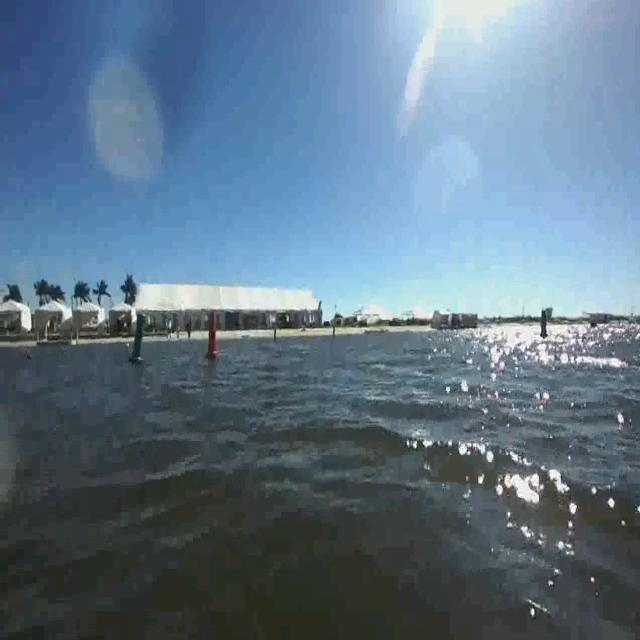green-column-buoy: (130, 314, 148, 366)
red-column-buoy: (205, 320, 220, 360)
